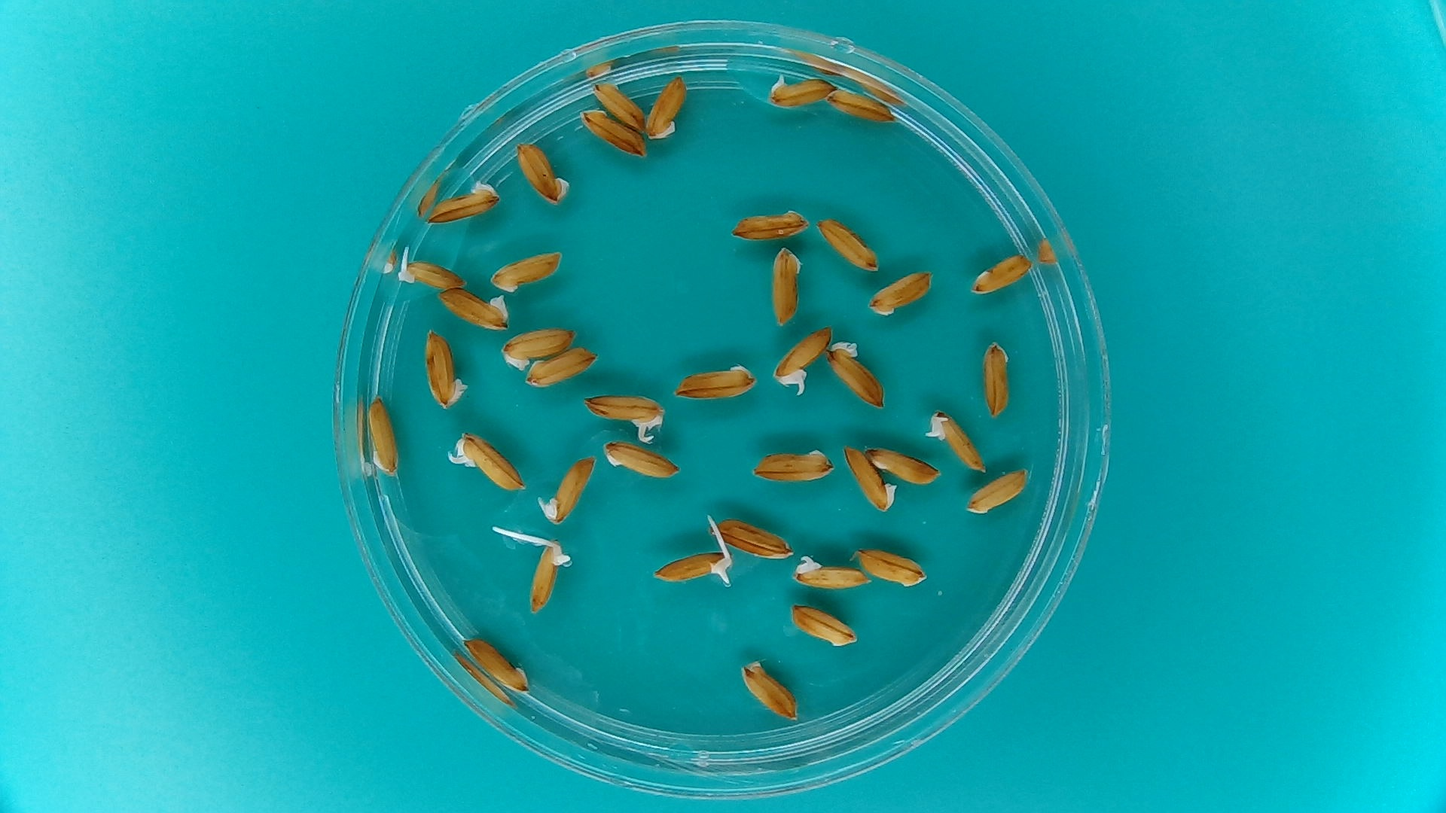no: (456, 634, 538, 699), (823, 340, 889, 415), (419, 327, 473, 416), (434, 285, 516, 341), (812, 215, 883, 279), (520, 346, 604, 400), (573, 105, 651, 163), (840, 444, 901, 518), (596, 437, 684, 486), (416, 179, 505, 227), (961, 465, 1037, 521), (512, 140, 575, 207), (705, 517, 798, 562), (736, 659, 803, 721), (846, 546, 932, 594), (865, 269, 941, 321), (496, 327, 579, 374), (587, 80, 654, 138), (745, 444, 837, 485), (861, 445, 950, 487), (670, 362, 761, 403), (783, 603, 861, 650), (364, 394, 405, 483), (487, 250, 569, 294), (642, 75, 691, 145), (764, 245, 803, 332), (976, 342, 1016, 421), (727, 207, 814, 243), (967, 251, 1035, 297), (822, 89, 898, 129)
yes: (578, 391, 671, 448), (929, 408, 988, 479), (773, 327, 836, 387), (457, 437, 528, 489), (787, 553, 875, 594), (542, 457, 592, 522), (657, 547, 731, 586), (766, 74, 839, 110), (398, 251, 462, 288), (528, 537, 561, 607)
